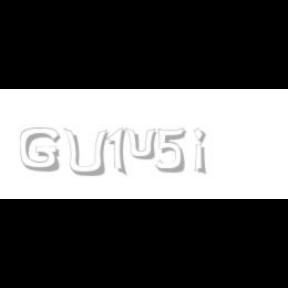1: (105, 128, 127, 176)
5: (156, 128, 186, 174)
G: (20, 128, 60, 172)
U: (62, 128, 108, 178)
i: (194, 128, 210, 176)
u: (126, 128, 160, 160)
